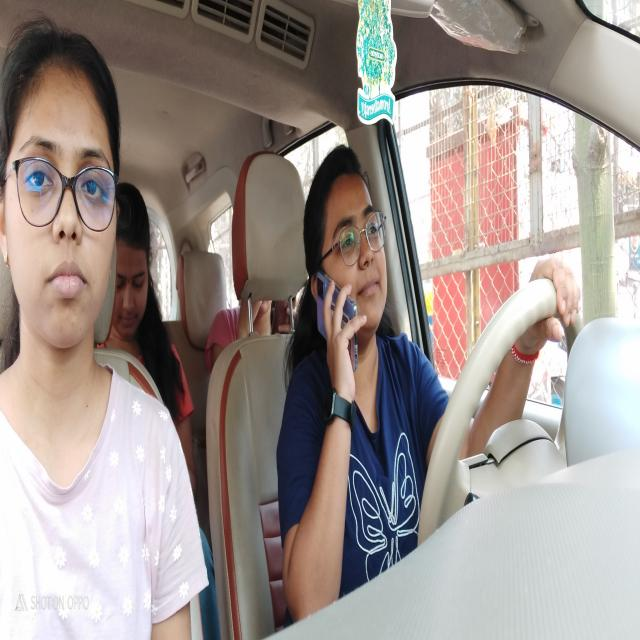mobile: (310, 266, 361, 368)
person: (5, 25, 119, 358), (301, 152, 389, 341), (116, 178, 156, 348), (234, 290, 284, 335)
